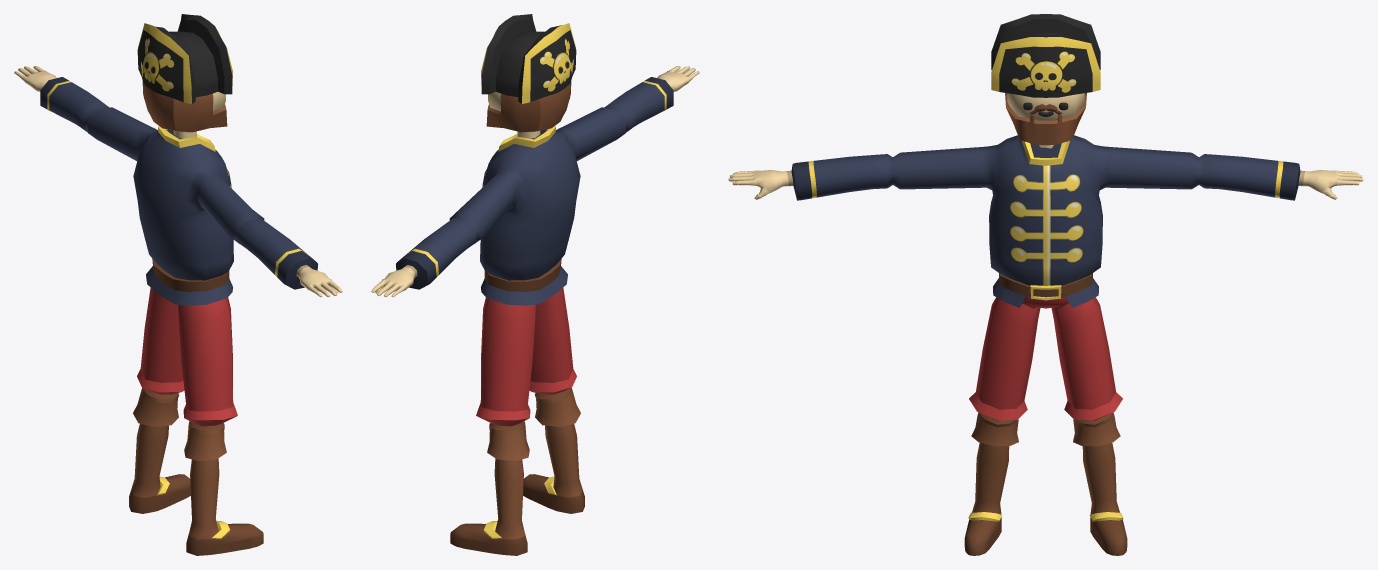
Rendered from Pirate.glb.
3 renders of one model, left to right at view 1: azimuth 30°, elevation 25°; view 2: azimuth 150°, elevation 25°; view 3: azimuth 270°, elevation 25°, orthographic. The views are drawn at different scales.
Parts seen in each view (by area): view 1: _100Avatars_145_CoolPirate; view 2: _100Avatars_145_CoolPirate; view 3: _100Avatars_145_CoolPirate.
Boxes of the visible parts, left/top/right/bottom form: _100Avatars_145_CoolPirate: left=14, top=14, right=342, bottom=555; _100Avatars_145_CoolPirate: left=371, top=14, right=699, bottom=555; _100Avatars_145_CoolPirate: left=728, top=14, right=1363, bottom=555.
Size of the model in its own units: 0.7191 by 4.16 by 4.71.
Materials: 1 (1 with a texture image).
